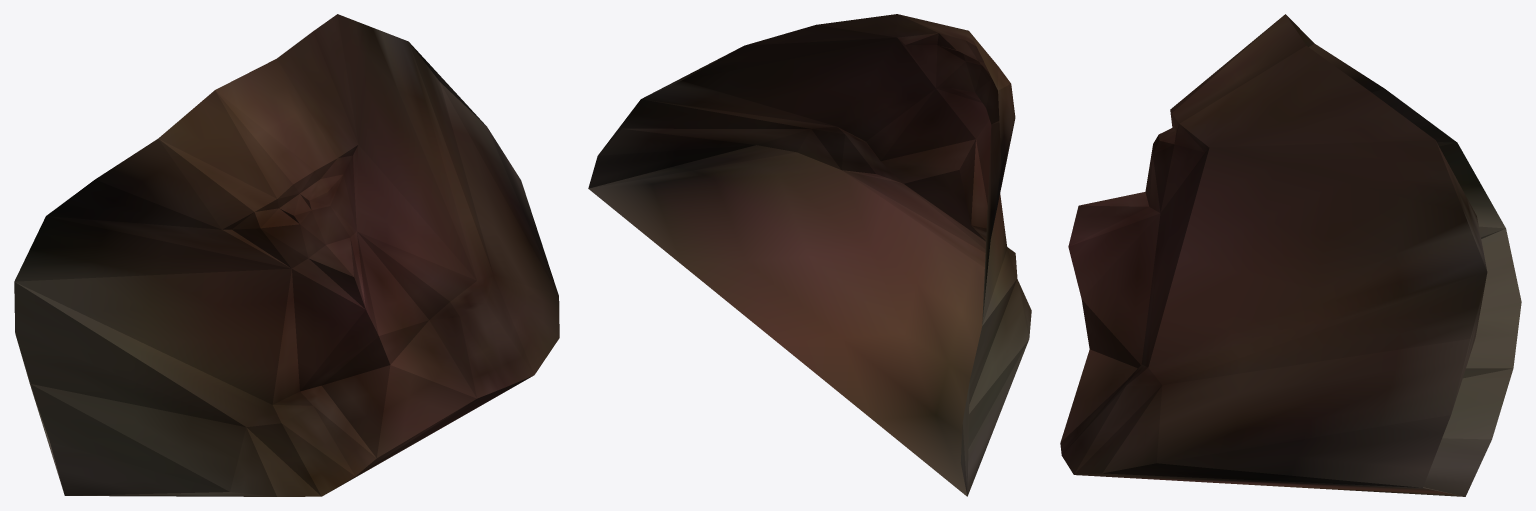
The model's file is fake_57603.obj.
3 renders of one model, left to right at view 1: azimuth 30°, elevation 25°; view 2: azimuth 150°, elevation 25°; view 3: azimuth 270°, elevation 25°, orthographic. The views are drawn at different scales.
Size of the model in its own units: 127 by 116 by 90.61.
